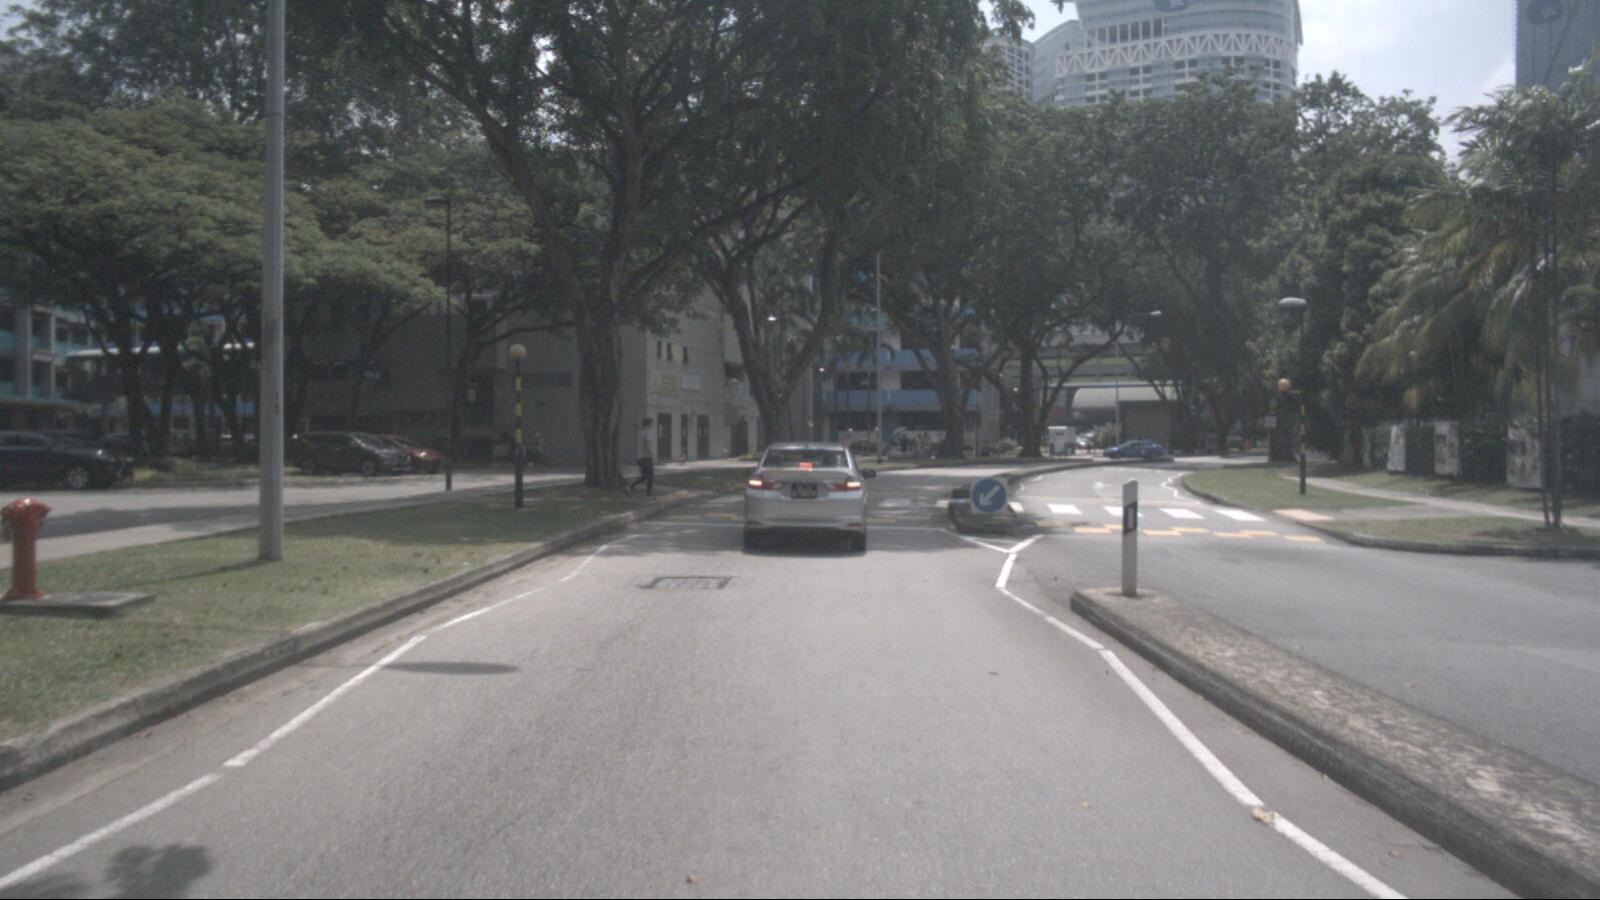human.pedestrian.adult-pedestrian.moving: (622, 417, 658, 501), (913, 423, 939, 459), (891, 427, 909, 456), (908, 435, 918, 460), (915, 434, 925, 459), (893, 433, 901, 450), (1085, 438, 1090, 454)
human.pedestrian.adult-pedestrian.standing: (530, 432, 545, 469)
